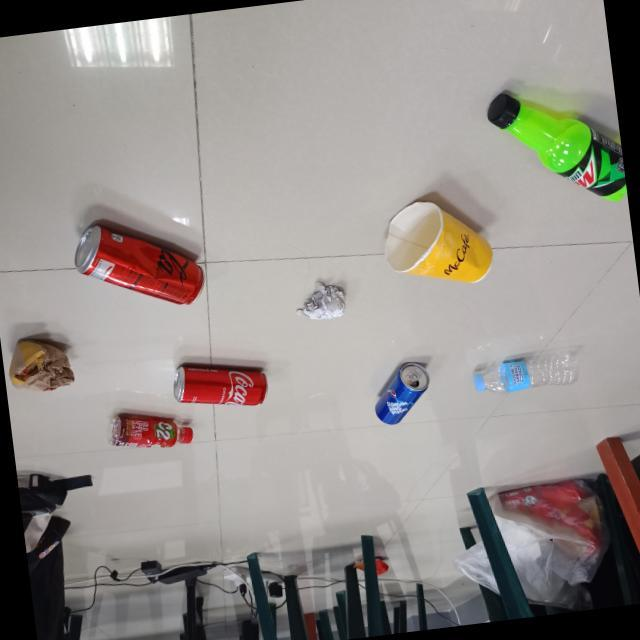recyclable waste: (478, 74, 628, 224), (66, 205, 214, 324), (372, 188, 502, 299), (166, 350, 276, 422), (468, 346, 588, 402), (0, 326, 82, 401), (361, 354, 438, 431), (100, 400, 198, 460), (288, 274, 354, 328)
